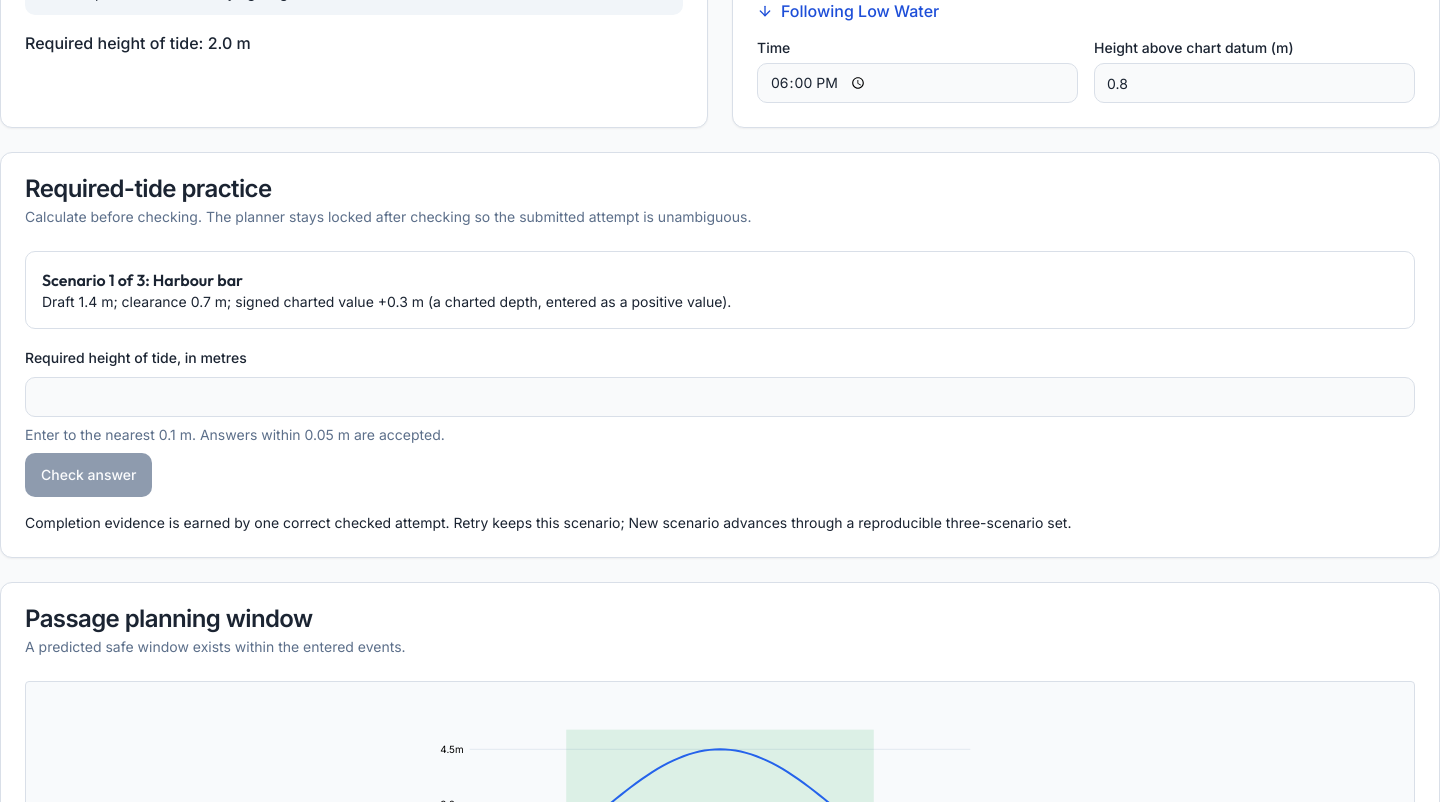
it: TidalPassageCalculator rendering contract › records mastery only for a correct checked answer and advances explicitly
This screenshot has width=1440, height=802.
(page scrolled)
Type "1.8" into the number field labelled "Required height of tide, in metres" at (720, 397), box top-left (25, 377), bottom-right (1415, 417)
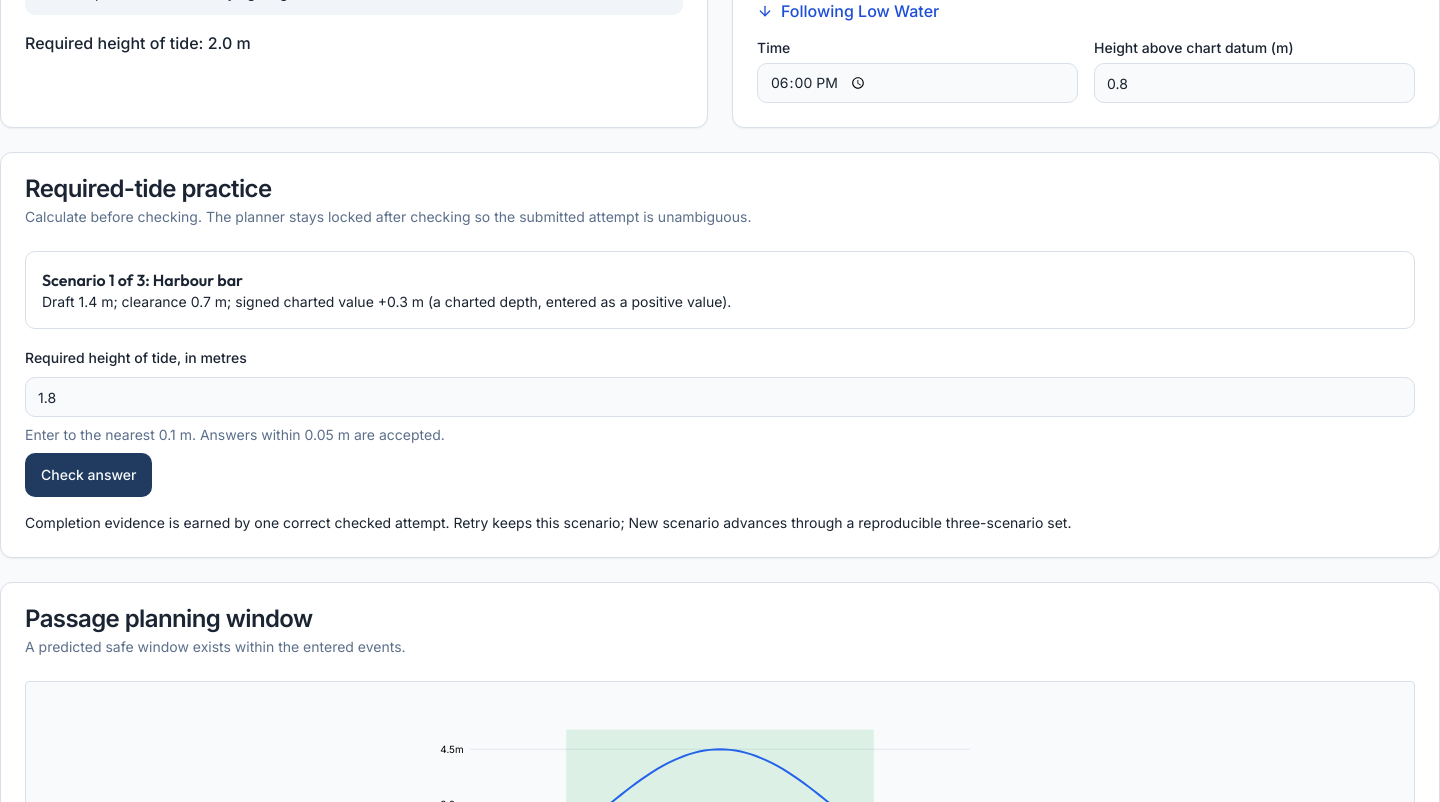
Click the button "Check answer" at (89, 475), box top-left (25, 453), bottom-right (152, 497)
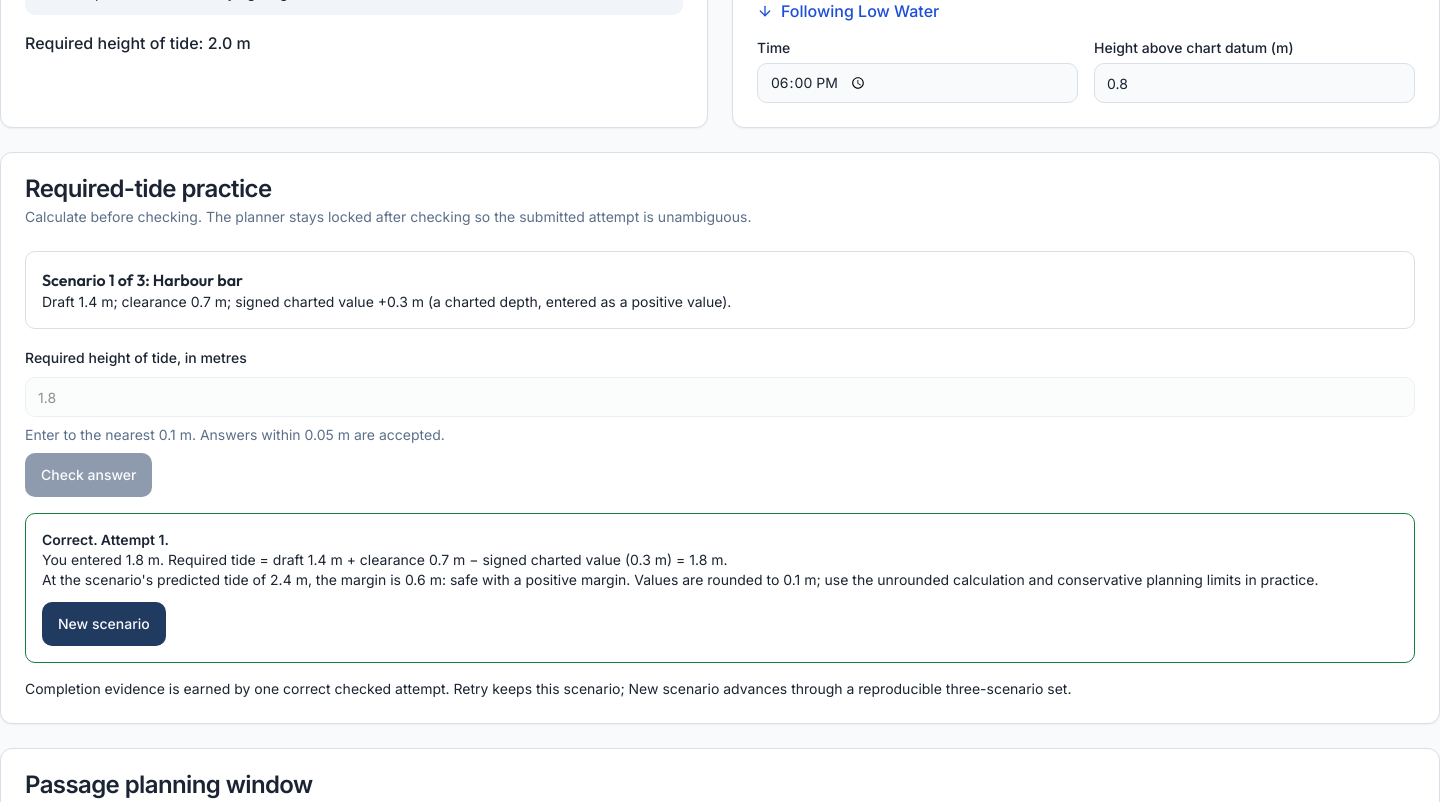
Check: the message shows "margin is 0.6 m", box top-left (25, 513), bottom-right (1415, 663)
Click the button "New scenario" at (104, 624), box top-left (42, 602), bottom-right (166, 646)
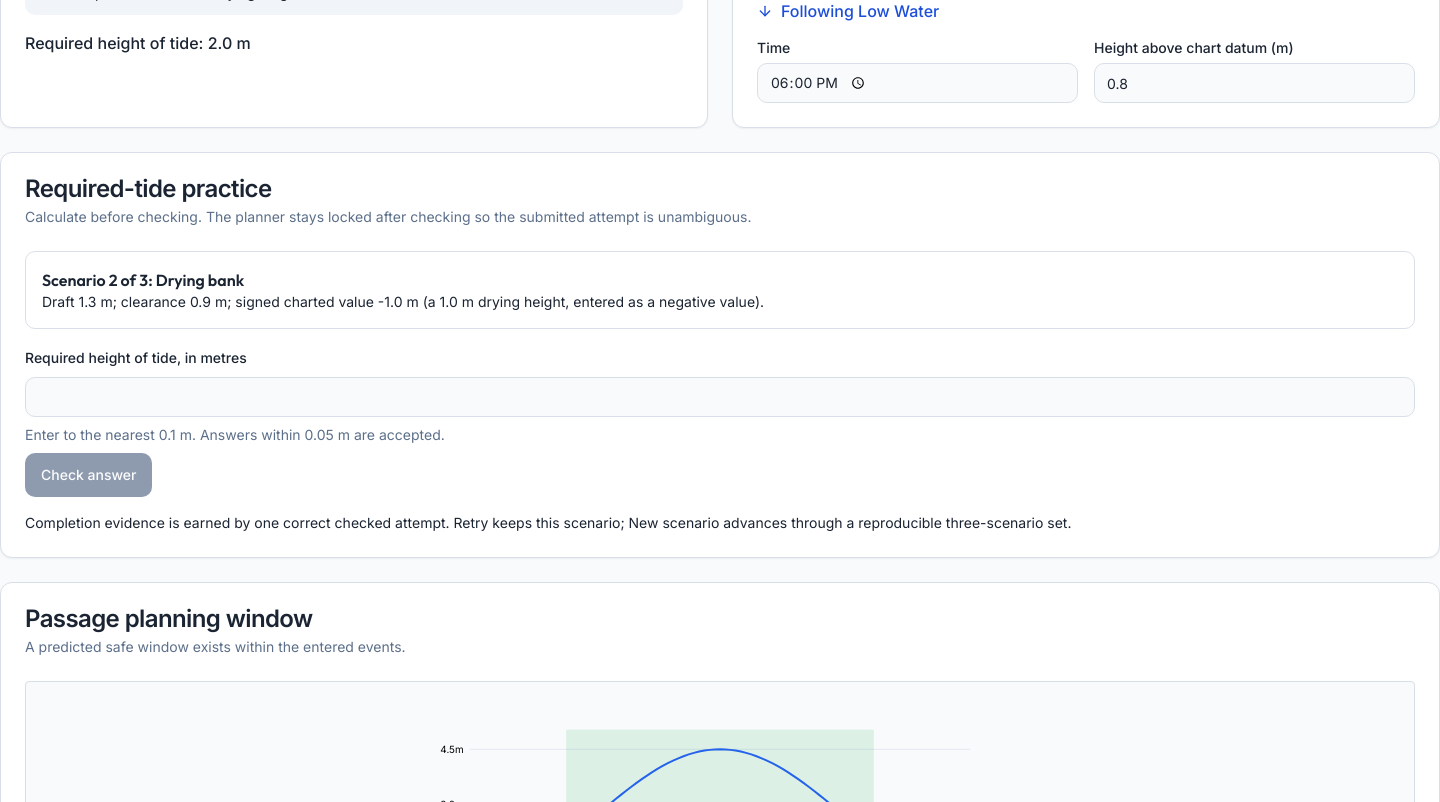
Check: the heading "Scenario 2 of 3: Drying bank" is shown, box top-left (42, 270), bottom-right (244, 290)
